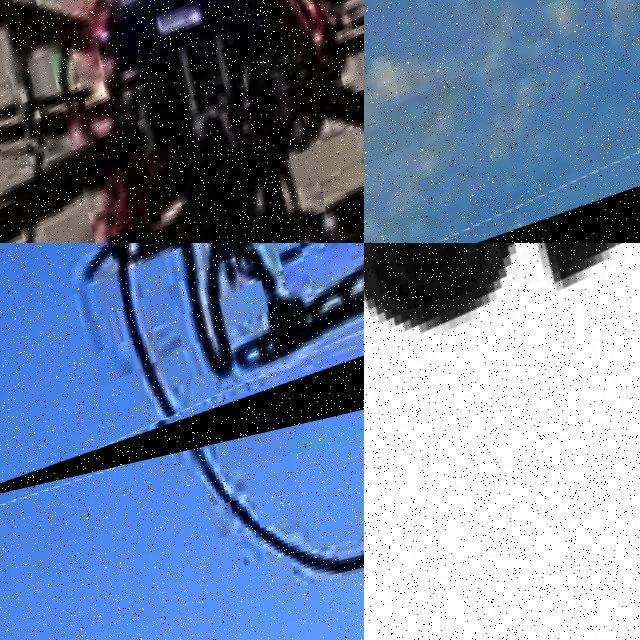drone: (364, 243, 640, 640), (0, 243, 364, 505), (0, 0, 364, 243), (364, 0, 640, 243)
